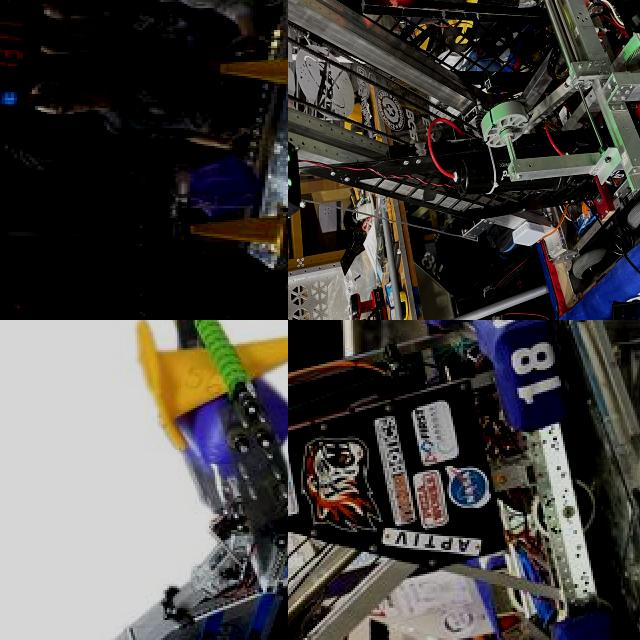FRC-Robots: (288, 0, 640, 320), (288, 320, 634, 640), (0, 320, 288, 640)
